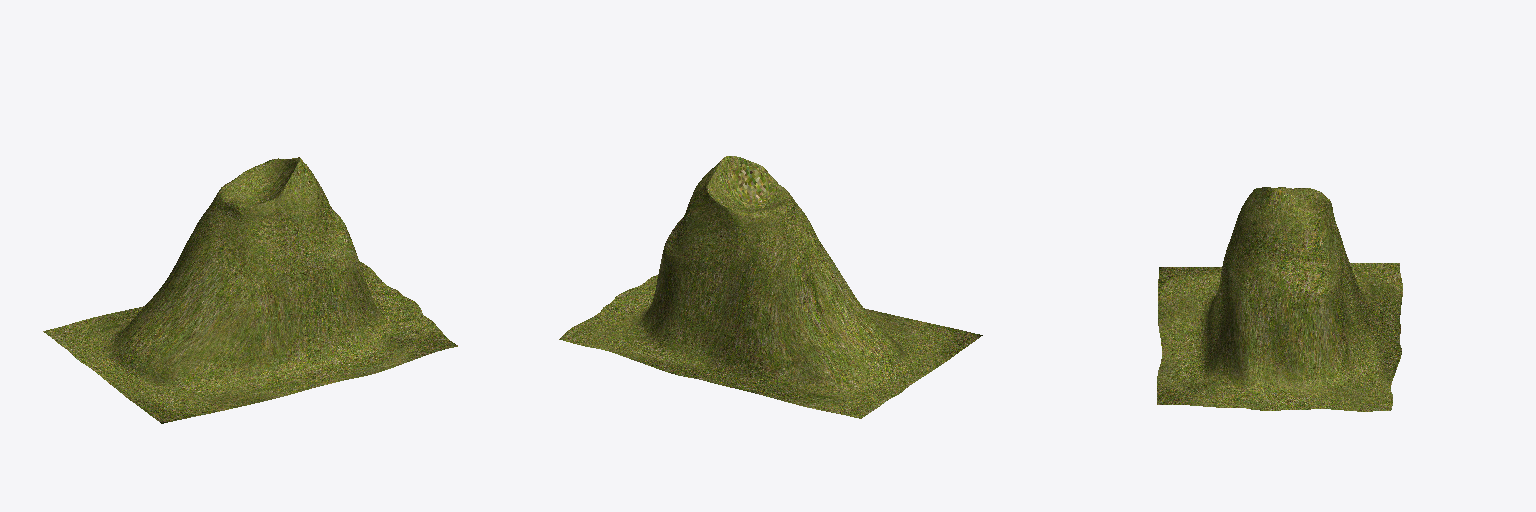
The picture shows the model from 3 angles: view 1: azimuth 30°, elevation 25°; view 2: azimuth 150°, elevation 25°; view 3: azimuth 270°, elevation 25°; orthographic projection.
Visible parts, largest first — view 1: Landscape; view 2: Landscape; view 3: Landscape.
Boxes of the visible parts, x1=… form: Landscape: x1=43, y1=157, x2=457, y2=423; Landscape: x1=559, y1=156, x2=982, y2=418; Landscape: x1=1157, y1=187, x2=1402, y2=411.
Bounding box in the file's own units: 337 × 184 × 231.
1 materials, 1 textured.